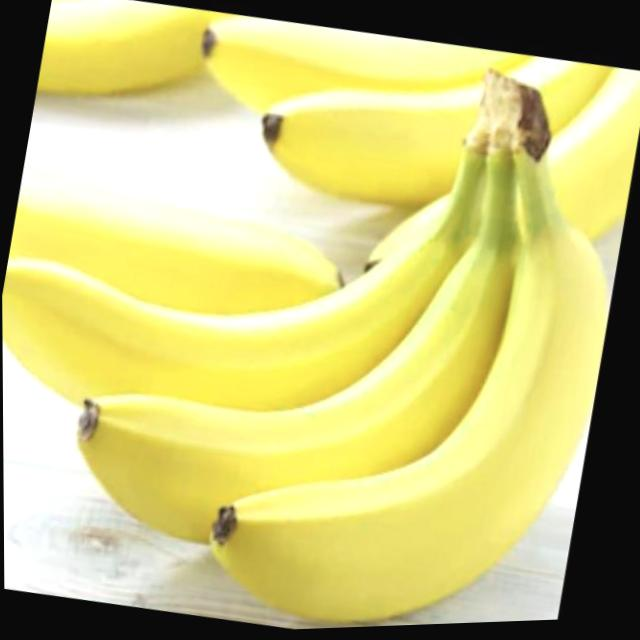Banana: (0, 0, 640, 640), (176, 0, 640, 265)
